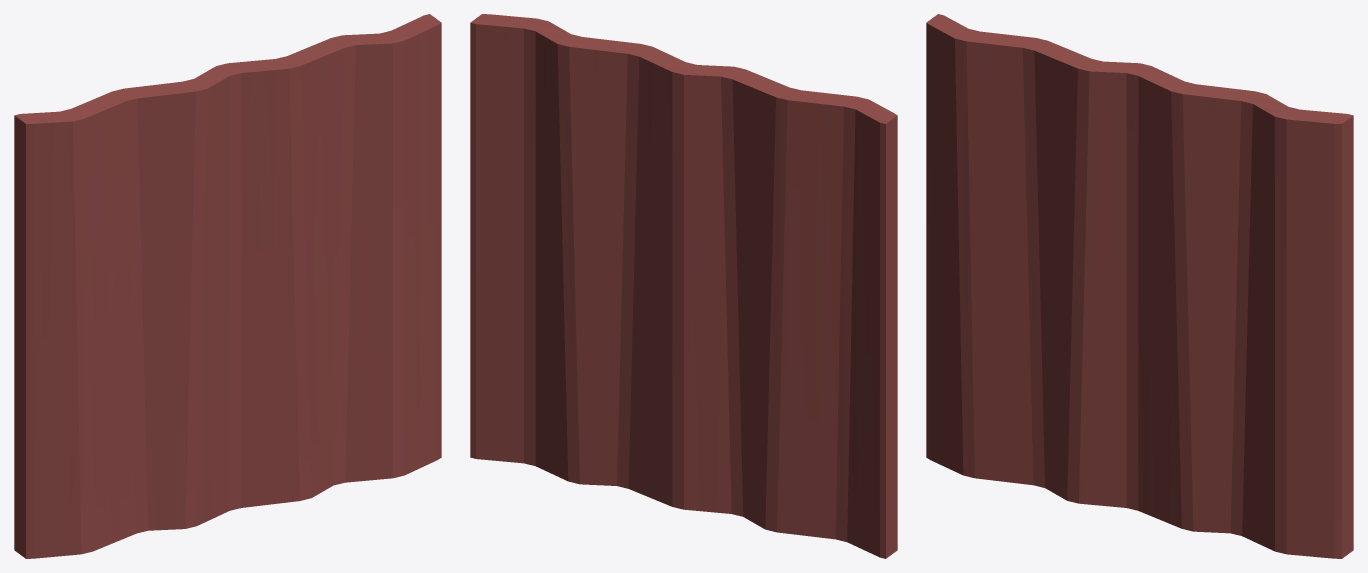
Rendered from wall_metal_1.glb.
3 views of the same model, side by side, from view 1: azimuth 30°, elevation 25°; view 2: azimuth 150°, elevation 25°; view 3: azimuth 330°, elevation 25° (orthographic).
Visible parts, largest first — view 1: wall_metal_1; view 2: wall_metal_1; view 3: wall_metal_1.
Part boxes in pixels (left/top/right/bottom): wall_metal_1: left=14, top=14, right=441, bottom=558; wall_metal_1: left=470, top=14, right=897, bottom=558; wall_metal_1: left=926, top=14, right=1353, bottom=558.
Bounding box in the file's own units: 2 × 2 × 0.1751.
Materials: 1 (1 with a texture image).
